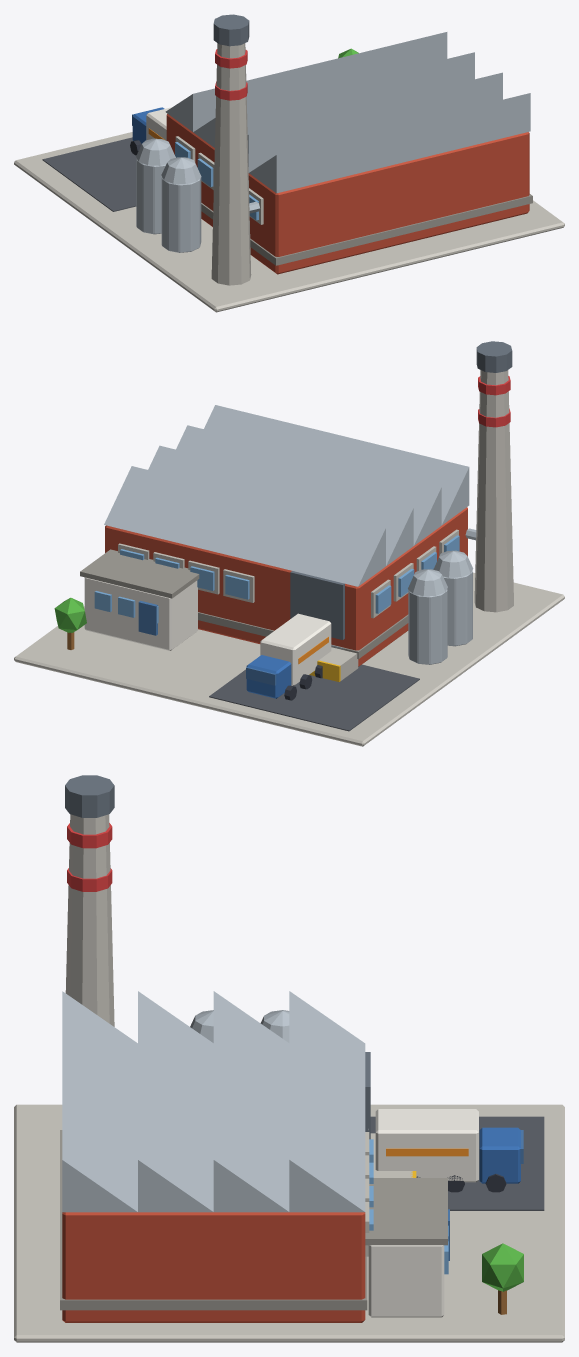
The model's file is fabrica.glb.
The picture shows the model from 3 angles, top to bottom: view 1: azimuth 30°, elevation 25°; view 2: azimuth 150°, elevation 25°; view 3: azimuth 270°, elevation 25°; orthographic projection. The views are drawn at different scales.
Visible parts, largest first — view 1: corpo; view 2: corpo; view 3: corpo.
Boxes of the visible parts, x1,y1,x2,y2 form: corpo: [14, 14, 564, 312]; corpo: [14, 341, 564, 746]; corpo: [14, 775, 564, 1342].
Size of the model in its own units: 4 by 2.84 by 4.
